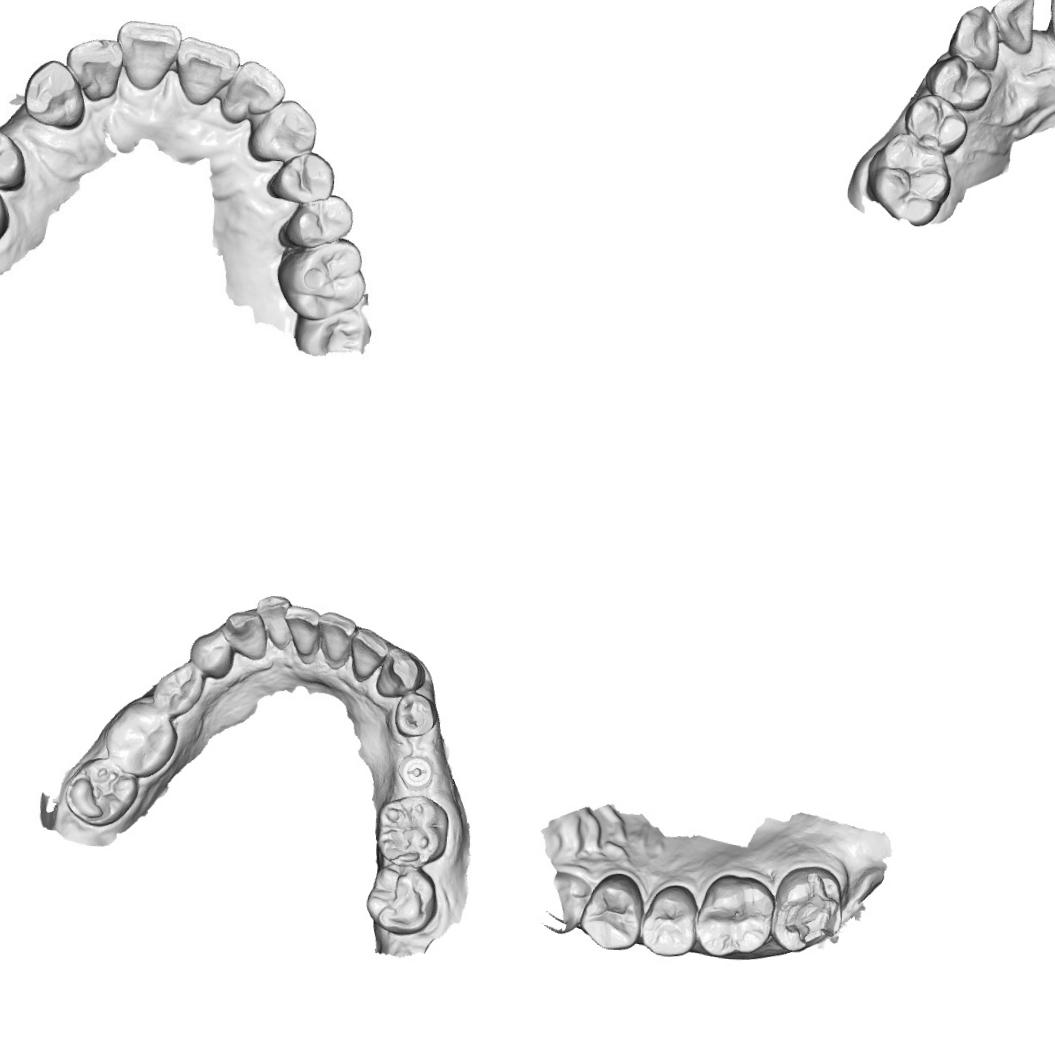canine: (15, 55, 92, 132), (248, 99, 319, 165), (946, 3, 1002, 72), (373, 643, 427, 700), (218, 608, 270, 662)
implant: (395, 751, 436, 792)
incisor: (60, 33, 124, 104), (178, 35, 238, 100), (118, 22, 176, 86), (226, 60, 281, 120), (989, 0, 1036, 55), (348, 625, 390, 681), (314, 610, 357, 664), (280, 602, 322, 657), (252, 592, 290, 650)
inlay: (776, 870, 841, 948)
molar: (862, 130, 954, 229), (275, 234, 369, 324), (691, 868, 779, 960), (101, 698, 179, 779), (372, 791, 450, 870), (61, 754, 142, 830), (363, 863, 440, 938)
premolar: (574, 868, 646, 953), (638, 879, 700, 961), (277, 193, 352, 254), (922, 52, 994, 114), (901, 92, 970, 156), (264, 152, 338, 206), (148, 657, 206, 718), (182, 628, 236, 676), (390, 689, 438, 739), (0, 123, 29, 193)
